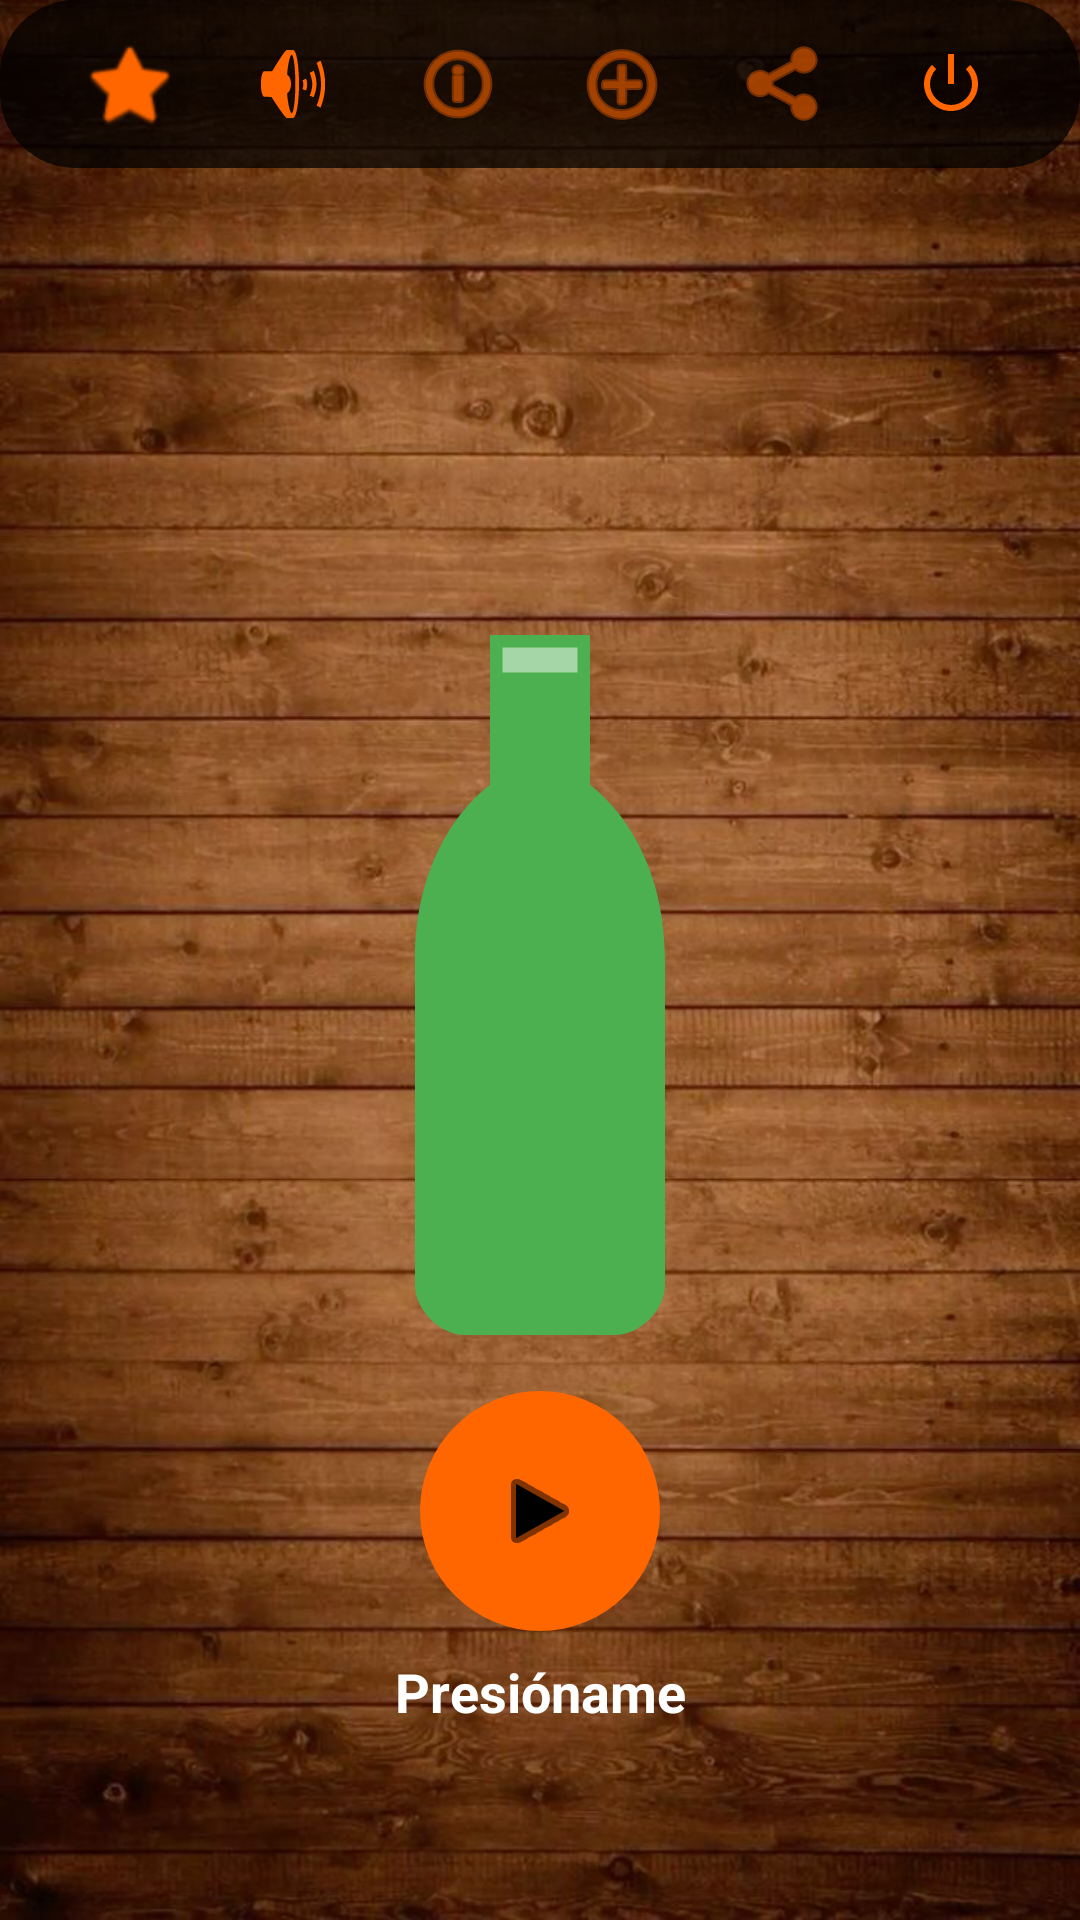

Named icons in this screenshot (1080×1920) and their centers, (x,y):
add: (622,84)
info details: (458,84)
lock power off: (951,82)
lock silent mode off: (293,84)
play: (540,1511)
share: (782,83)
star off: (130,85)
